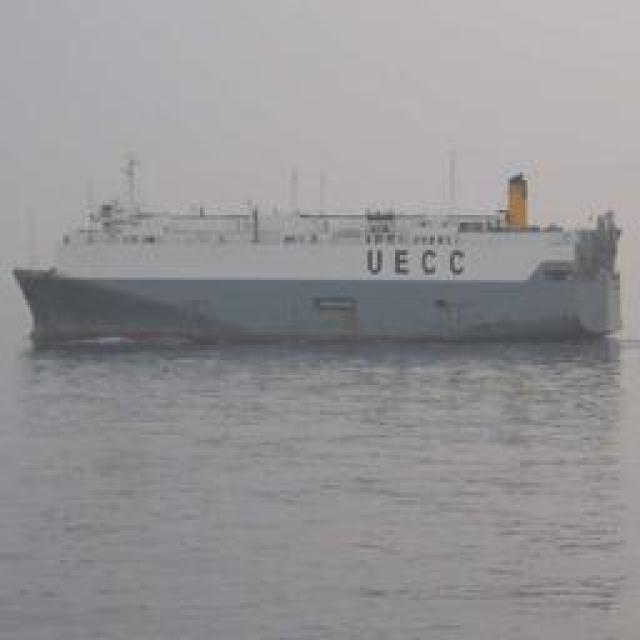Ship: (12, 177, 630, 347)
